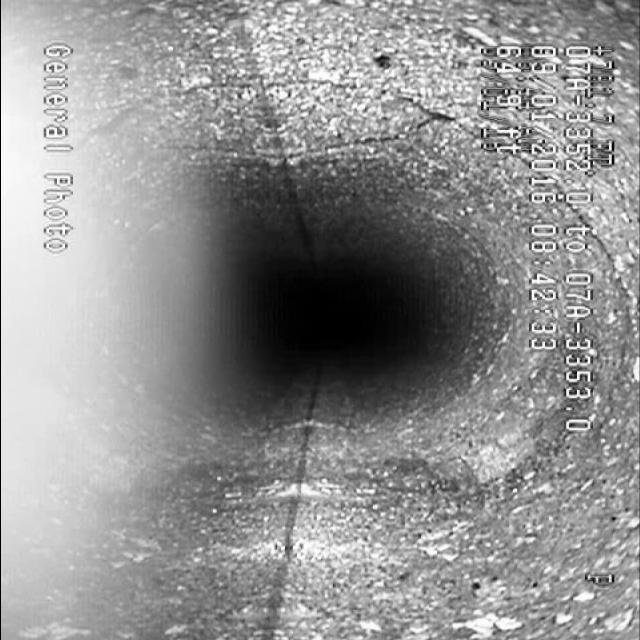Crack: (283, 115, 439, 173)
